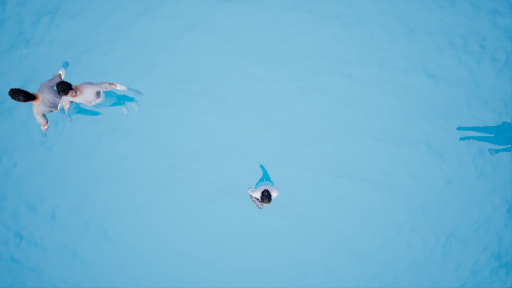person: (57, 71, 151, 125), (4, 78, 68, 134), (236, 159, 296, 213)
